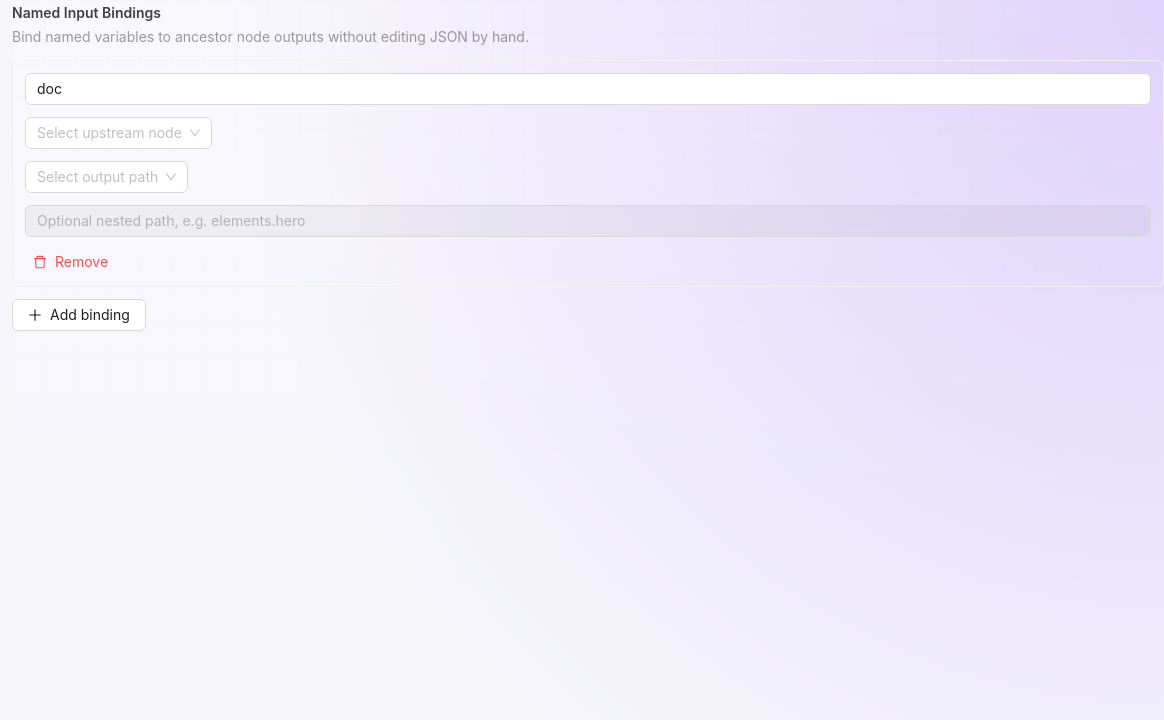
Test: VariablePicker › sorts canonical ancestor options by node id regardless of edge insertion order
The image size is (1164, 720).
Press the mouse on the element showing "Select upstream node" at [118, 133], box [25,117,212,149]
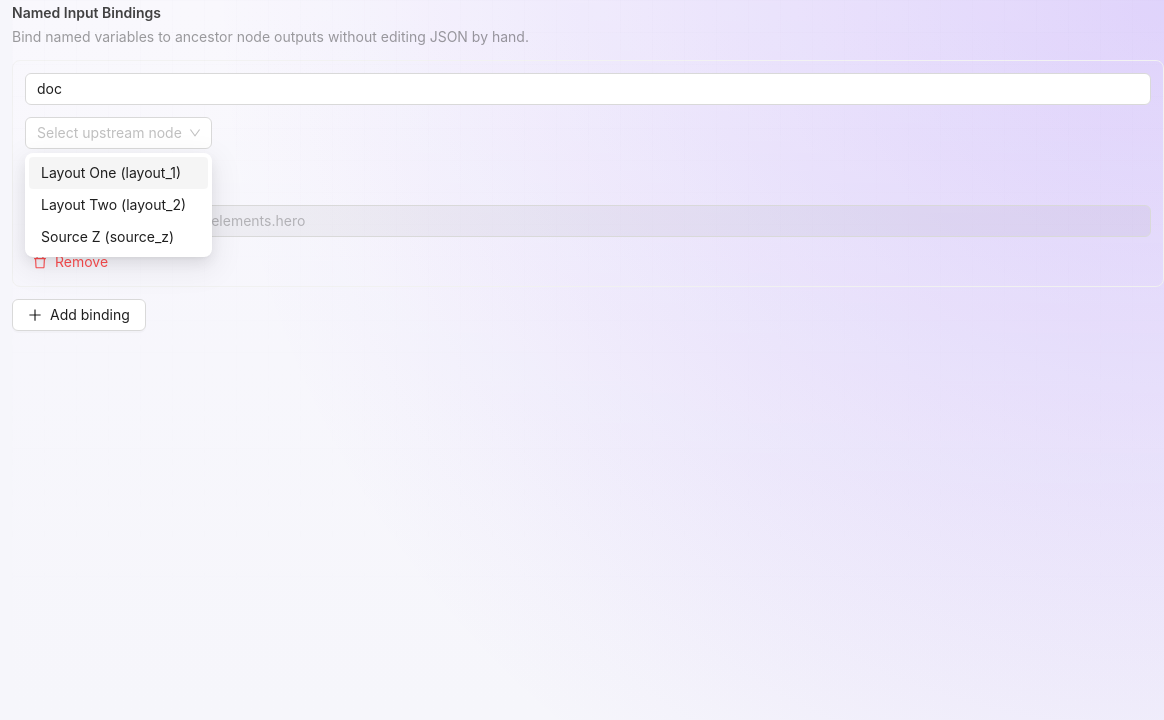
Check: the options read "Layout One (layout_1)", "Layout Two (layout_2)", "Source Z (source_z)", in this order, box [29,157,208,189]; [41,196,186,213]; [41,228,174,245]
